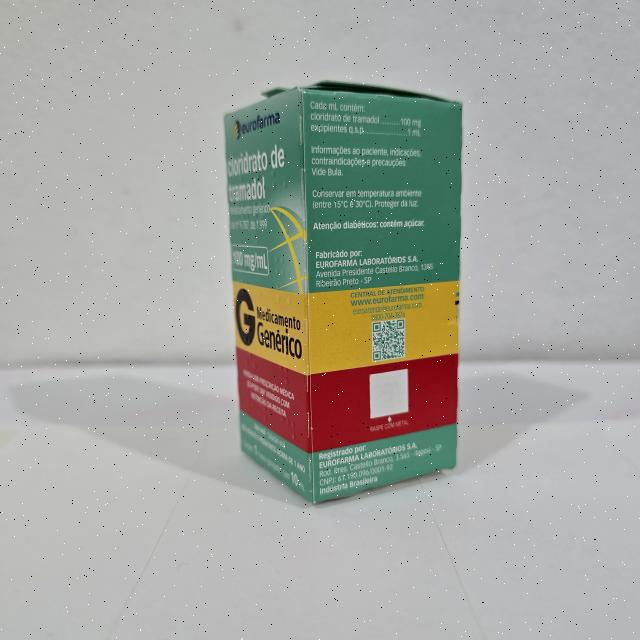tramadol: (217, 75, 466, 512)
